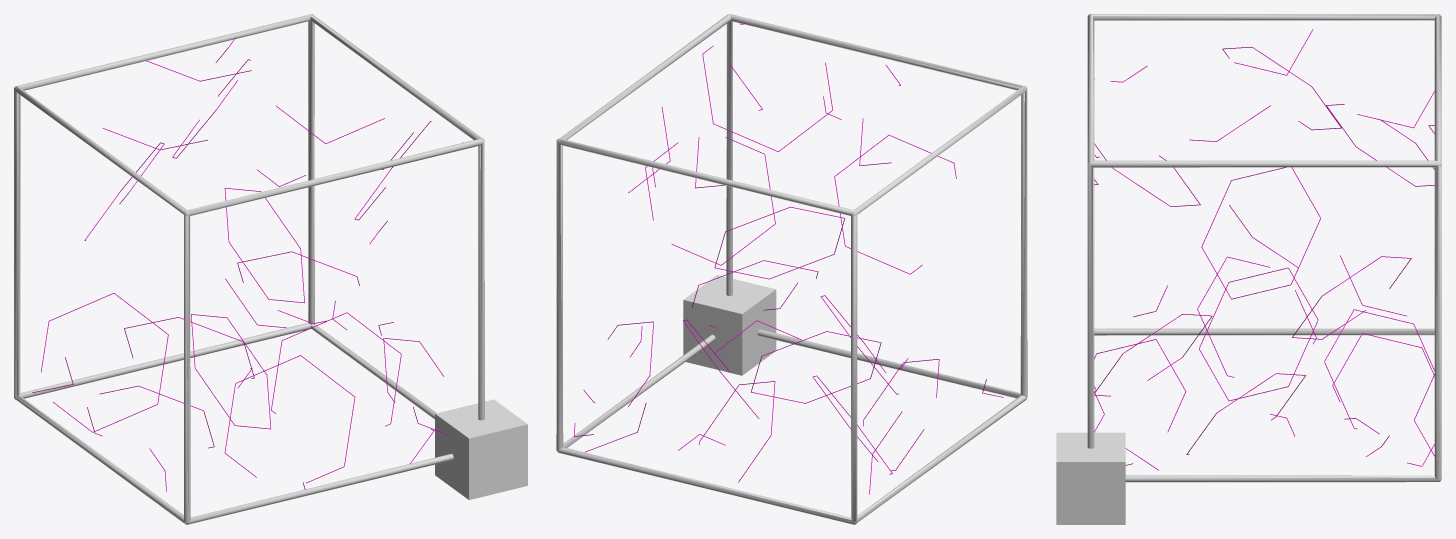
3 views of the same model, side by side, from view 1: azimuth 30°, elevation 25°; view 2: azimuth 150°, elevation 25°; view 3: azimuth 270°, elevation 25° (orthographic). The views are drawn at different scales.
Visible parts, largest first — view 1: Shape_IndexedLineSet, Cube, Shape_IndexedLineSet.001; view 2: Shape_IndexedLineSet, Cube, Shape_IndexedLineSet.001; view 3: Shape_IndexedLineSet, Cube, Shape_IndexedLineSet.001.
Part boxes in pixels (bbox=[...]): Shape_IndexedLineSet: bbox=[14, 14, 484, 524]; Cube: bbox=[435, 399, 527, 499]; Shape_IndexedLineSet.001: bbox=[32, 37, 463, 491]; Shape_IndexedLineSet: bbox=[556, 14, 1027, 524]; Cube: bbox=[683, 275, 776, 375]; Shape_IndexedLineSet.001: bbox=[573, 23, 1003, 494]; Shape_IndexedLineSet: bbox=[1087, 14, 1441, 482]; Cube: bbox=[1056, 432, 1125, 524]; Shape_IndexedLineSet.001: bbox=[1094, 29, 1434, 470].
Size of the model in its own units: 11.1 by 11.1 by 11.1.
